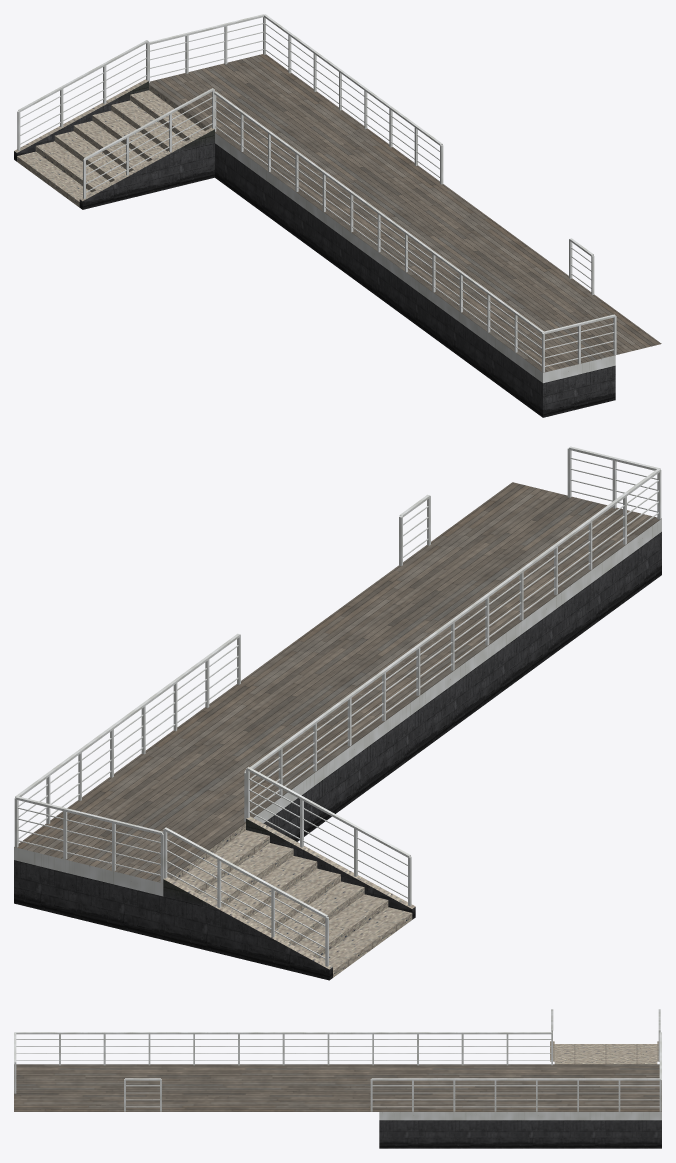
Rendered from SM_Mirabello_Pianerottolo_v2.fbx.
3 views of the same model, one above another, from view 1: azimuth 30°, elevation 25°; view 2: azimuth 150°, elevation 25°; view 3: azimuth 270°, elevation 25° (orthographic). The views are drawn at different scales.
Parts seen in each view (by area): view 1: SM_Mirabello_Pianerottolo_v2; view 2: SM_Mirabello_Pianerottolo_v2; view 3: SM_Mirabello_Pianerottolo_v2.
Part boxes in pixels (x1,y1,x2,y2): SM_Mirabello_Pianerottolo_v2: (14,14,661,417); SM_Mirabello_Pianerottolo_v2: (14,446,661,980); SM_Mirabello_Pianerottolo_v2: (14,1009,661,1148).
Size of what is drawn, in the model's own units: 760 by 2080 by 255.
4 materials, 4 textured.
